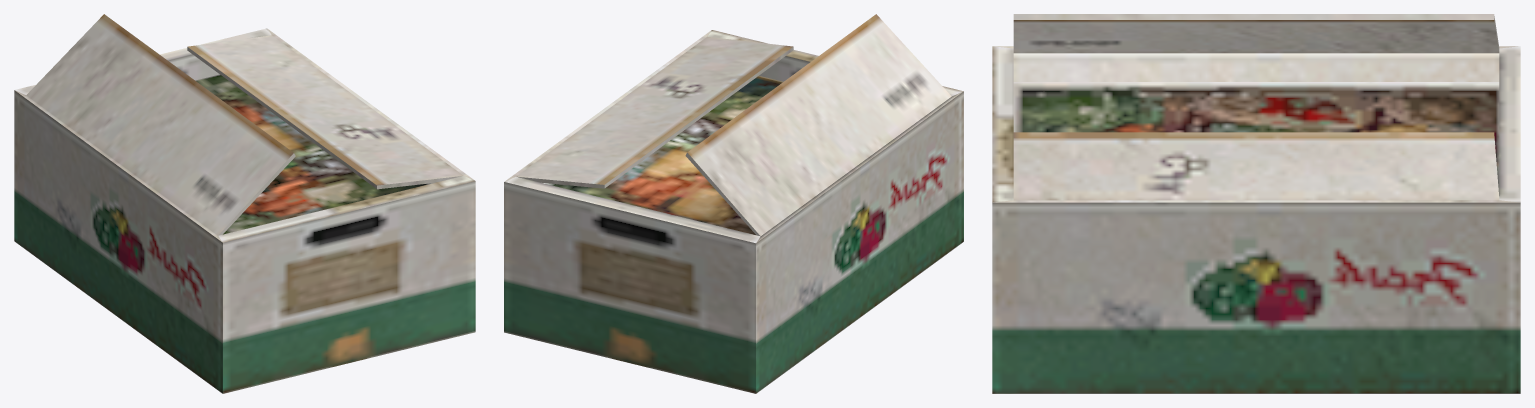
Rendered from marketcardboard2.fbx.
3 renders of one model, left to right at view 1: azimuth 30°, elevation 25°; view 2: azimuth 150°, elevation 25°; view 3: azimuth 270°, elevation 25°, orthographic. The views are drawn at different scales.
Parts seen in each view (by area): view 1: mesh_0; view 2: mesh_0; view 3: mesh_0.
Part boxes in pixels (x1,y1,x2,y2): mesh_0: (14, 14, 475, 393); mesh_0: (504, 14, 963, 393); mesh_0: (992, 14, 1520, 393).
Bounding box in the file's own units: 69.99 × 57 × 100.
Materials: 1 (1 with a texture image).
